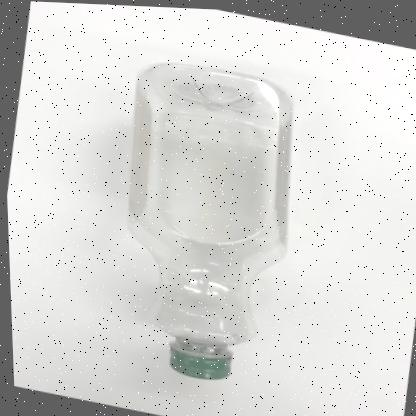Plastic: (125, 60, 292, 378)
